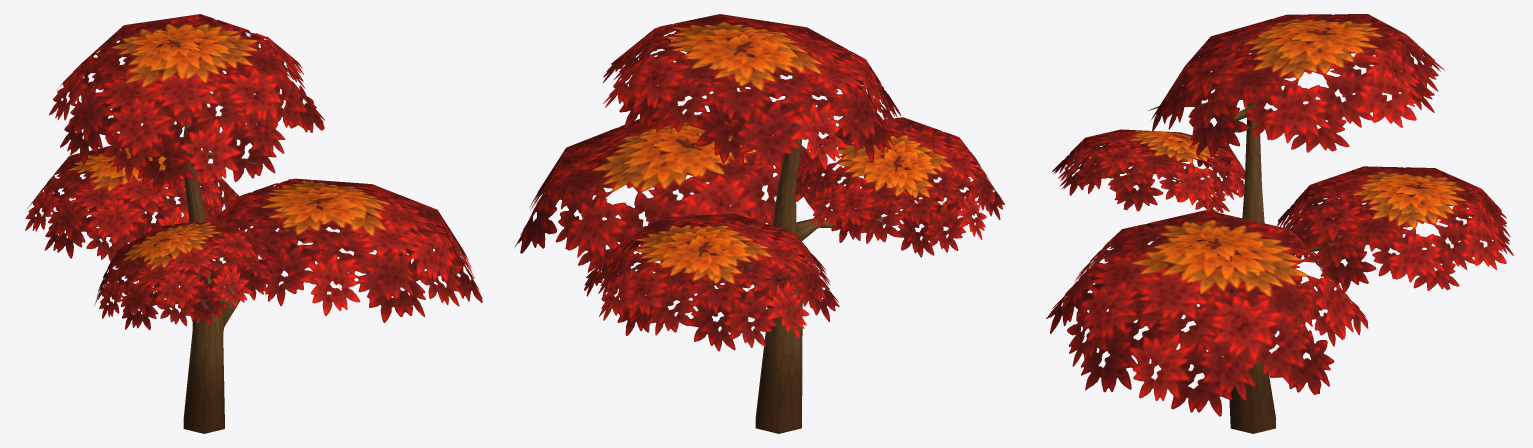
Rendered from Tree_05c.FBX.
3 views of the same model, side by side, from view 1: azimuth 30°, elevation 25°; view 2: azimuth 150°, elevation 25°; view 3: azimuth 270°, elevation 25° (orthographic). The views are drawn at different scales.
Parts seen in each view (by area): view 1: Tree_05c; view 2: Tree_05c; view 3: Tree_05c.
Boxes of the visible parts, x1,y1,x2,y2 form: Tree_05c: (25, 14, 482, 433); Tree_05c: (514, 14, 1004, 433); Tree_05c: (1046, 14, 1513, 433).
Bounding box in the file's own units: 113 × 99.83 × 111.
Materials: 1 (1 with a texture image).
